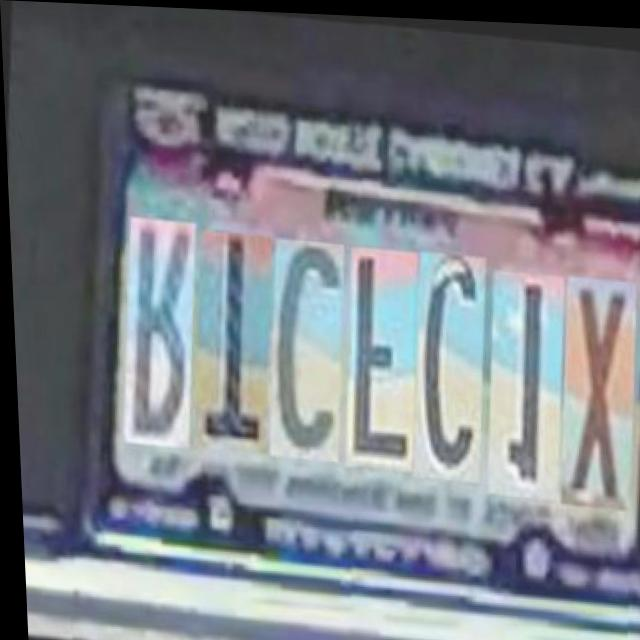1: (471, 260, 562, 490)
c: (253, 231, 342, 456), (397, 243, 483, 475)
f: (329, 239, 417, 465)
r: (108, 213, 194, 446)
t: (178, 225, 269, 449)
x: (544, 264, 635, 500)
